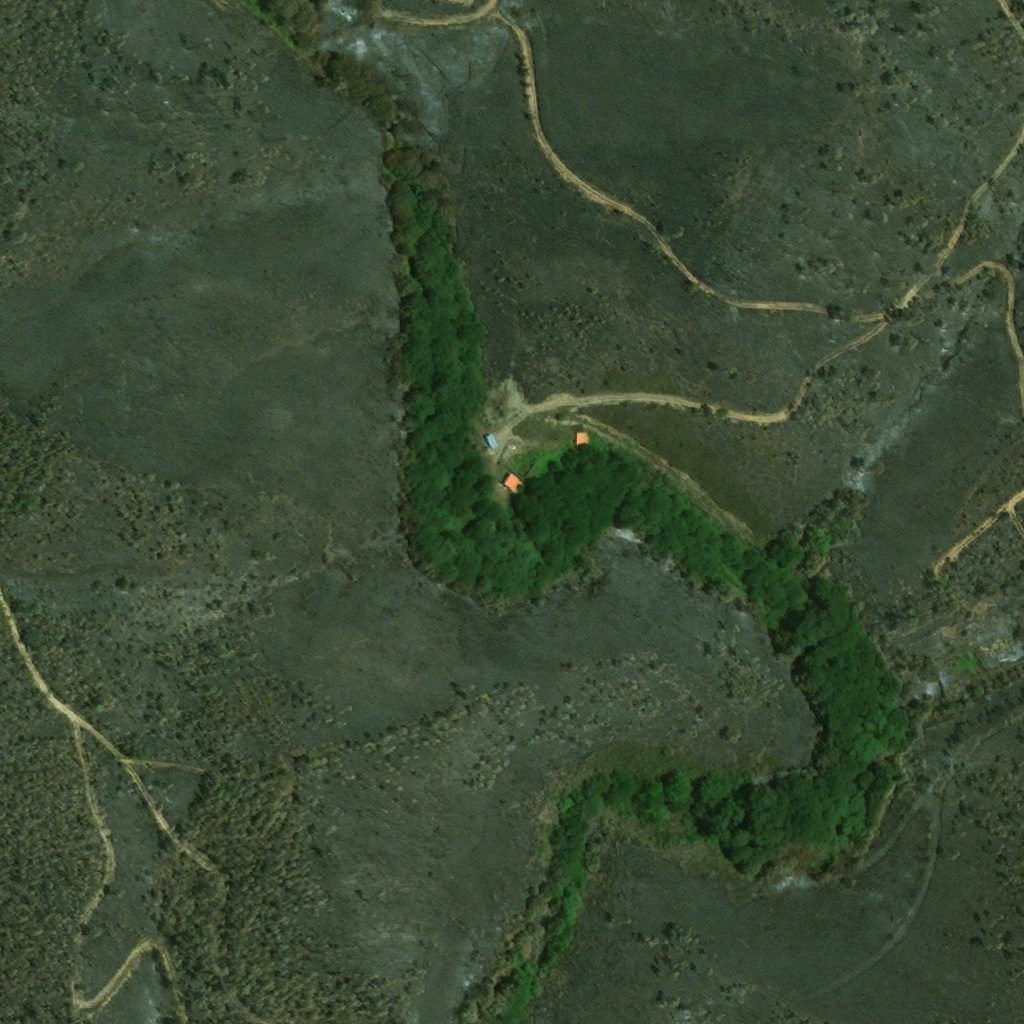0 no-damage: (500, 471, 525, 495), (483, 431, 500, 450), (574, 432, 588, 451)
